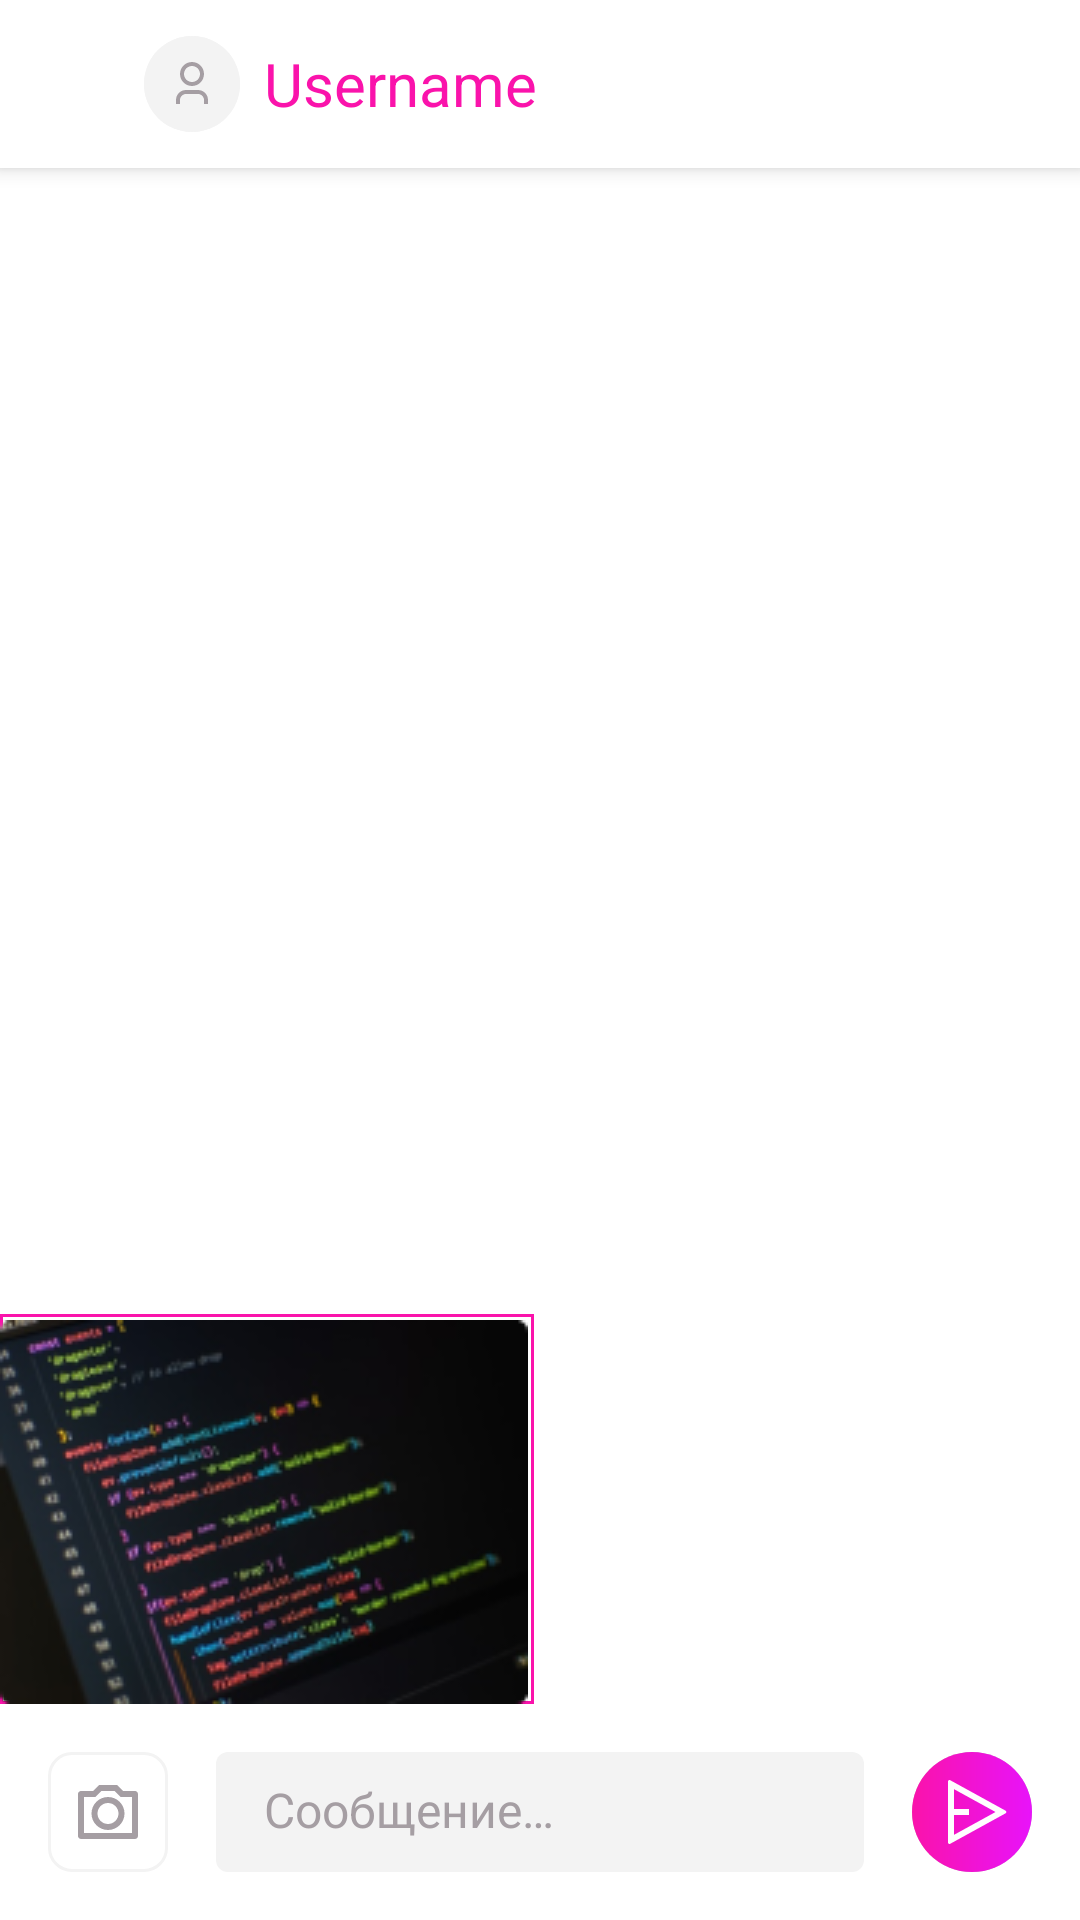

Locate icon controls on the screen. Image size 1080x1920, boxes as BBox(x1, y1, x2, y2).
send photo: BBox(78, 1785, 138, 1839)
